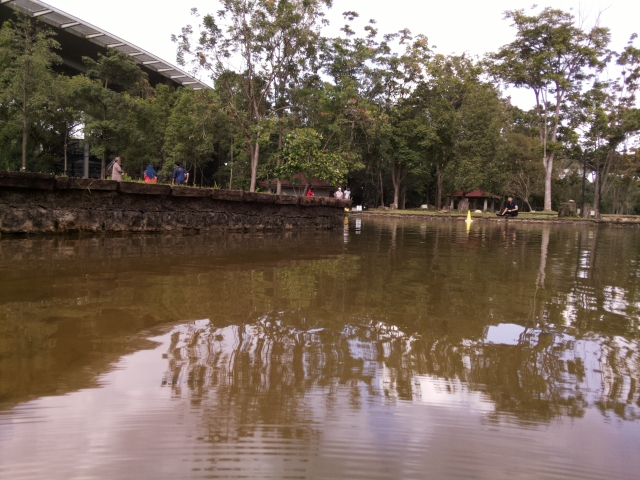checkpoint: (463, 209, 476, 223)
